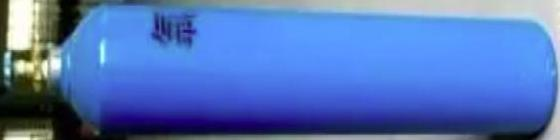cylinder: (1, 1, 560, 140)
